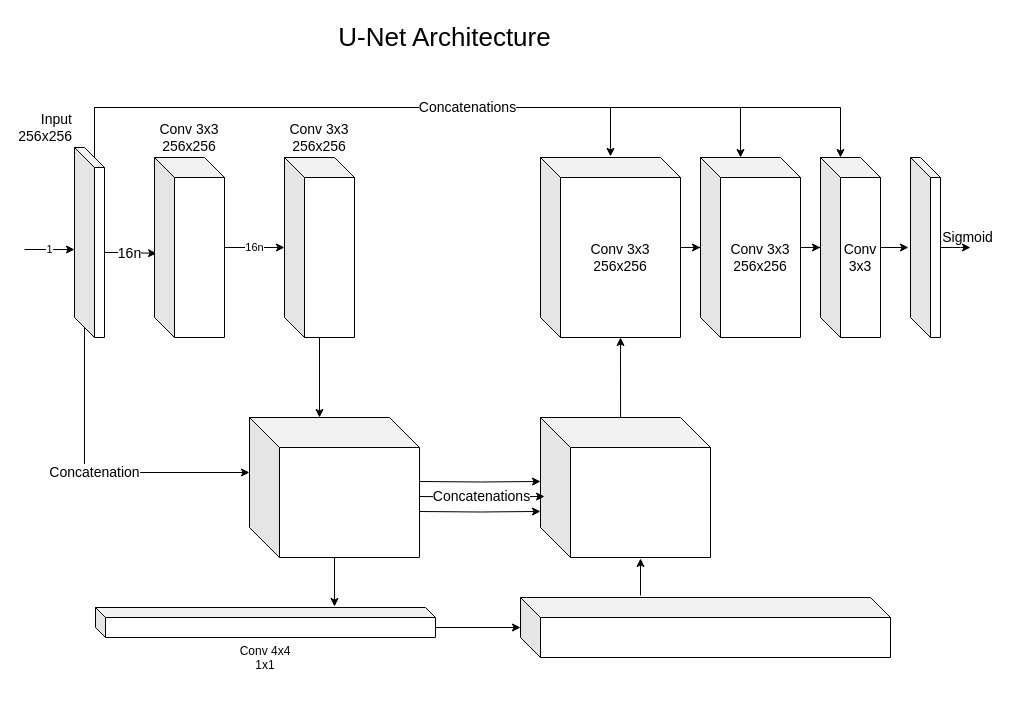
This 1020x715 diagram has some shape labels left out. The shapes that lost their labels are listed below. From the top down, each one's centre as x and y in pixels, then its label:
At [925,247]: "Pointwise Convolution".
At [334,487]: "DownBlock x3 256x256 -> 4x4".
At [625,487]: "UpBlock x3 4x4 -> 256x256".
At [705,627]: "ConvTranspose 4x4 4x4".
